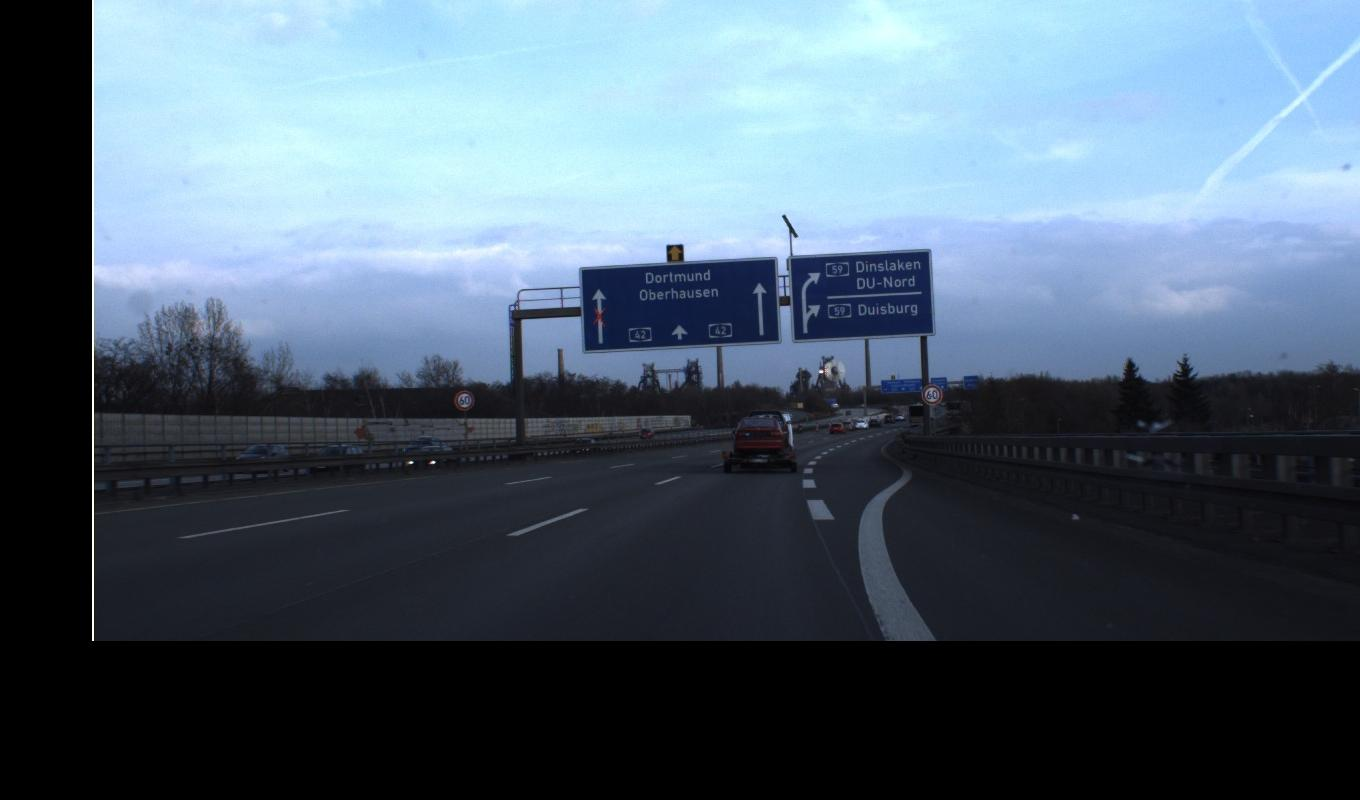speed limit 60: (453, 383, 943, 411)
